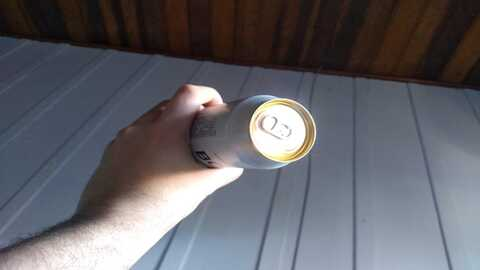bohemia: (201, 92, 314, 172)
